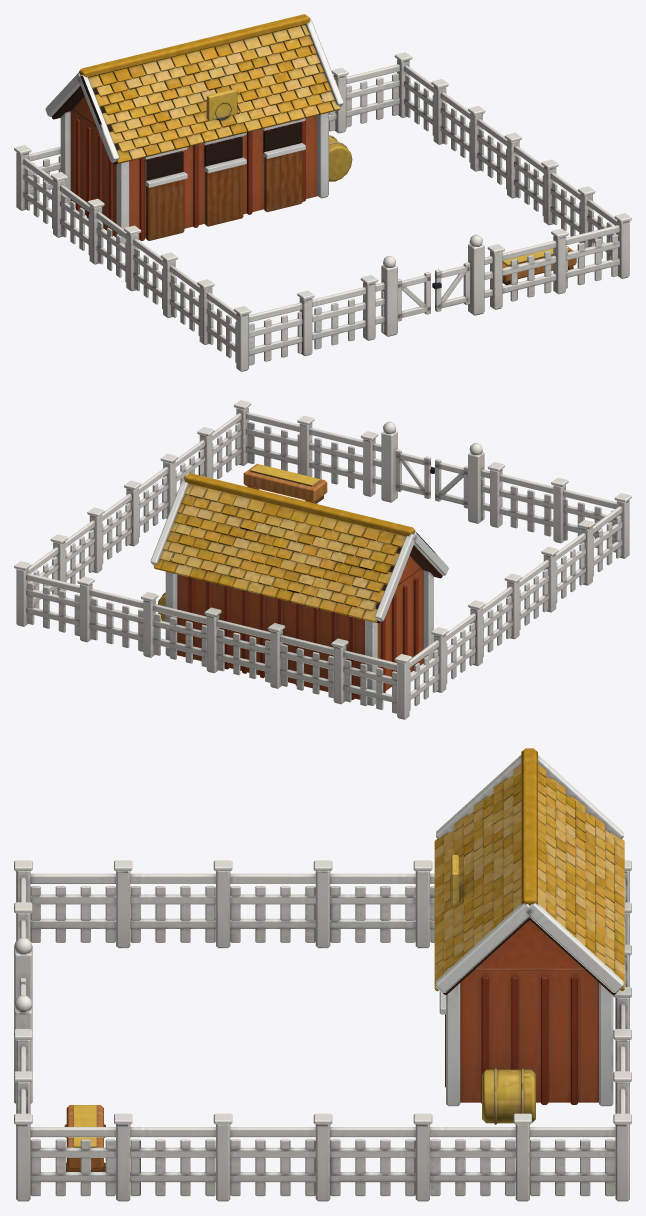
Rendered from palomino_stable.glb.
3 views of the same model, one above another, from view 1: azimuth 30°, elevation 25°; view 2: azimuth 150°, elevation 25°; view 3: azimuth 270°, elevation 25° (orthographic). The views are drawn at different scales.
Parts seen in each view (by area): view 1: palomino_stable, gate1, gate0; view 2: palomino_stable, gate1, gate0; view 3: palomino_stable.
Boxes of the visible parts, x1,y1,x2,y2 form: palomino_stable: (14, 14, 631, 371); gate1: (432, 262, 470, 311); gate0: (398, 271, 430, 321); palomino_stable: (14, 400, 631, 719); gate1: (395, 449, 434, 498); gate0: (435, 458, 467, 508); palomino_stable: (14, 748, 631, 1201).
Size of the model in its own units: 2.99 by 1.16 by 2.99.
1 material, 1 textured.
